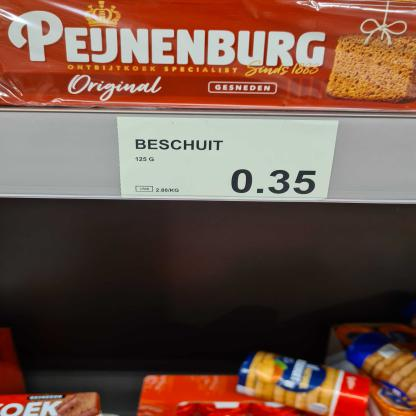prtg: (117, 117, 341, 200)
